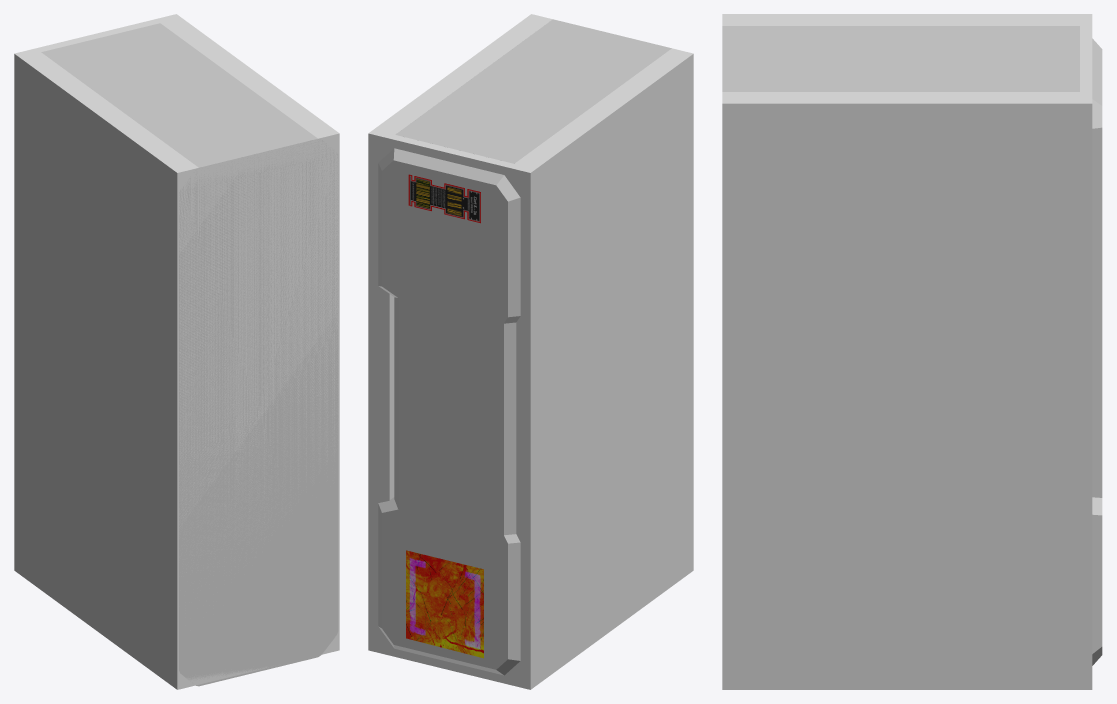
The model's file is locker_02.fbx.
The picture shows the model from 3 angles, left to right: view 1: azimuth 30°, elevation 25°; view 2: azimuth 150°, elevation 25°; view 3: azimuth 270°, elevation 25°; orthographic projection. The views are drawn at different scales.
Visible parts, largest first — view 1: Cube.213, Cube.211; view 2: Cube.213, Cube.212, Cube.211, Cube.221, Cube.214; view 3: Cube.213, Cube.211, Cube.212.
Part boxes in pixels (left/top/right/bottom): Cube.213: left=14, top=14, right=339, bottom=689; Cube.211: left=41, top=23, right=338, bottom=686; Cube.213: left=368, top=14, right=693, bottom=689; Cube.212: left=378, top=148, right=520, bottom=675; Cube.211: left=395, top=19, right=671, bottom=163; Cube.221: left=406, top=550, right=483, bottom=658; Cube.214: left=408, top=174, right=480, bottom=223; Cube.213: left=722, top=14, right=1092, bottom=689; Cube.211: left=722, top=26, right=1079, bottom=91; Cube.212: left=1092, top=38, right=1102, bottom=665.
Bounding box in the file's own units: 0.3563 × 1.09 × 0.638.
